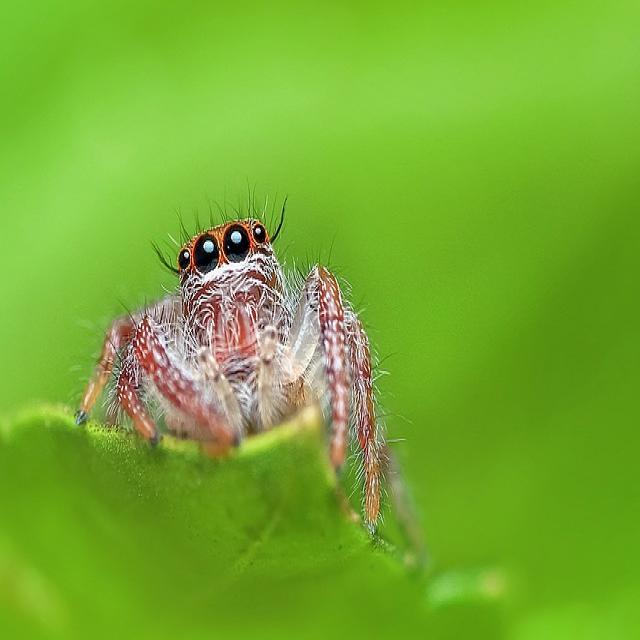spyder: (76, 220, 384, 529)
